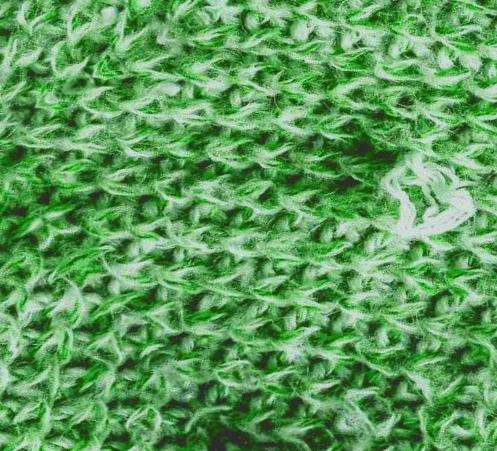snag: (376, 151, 480, 249)
